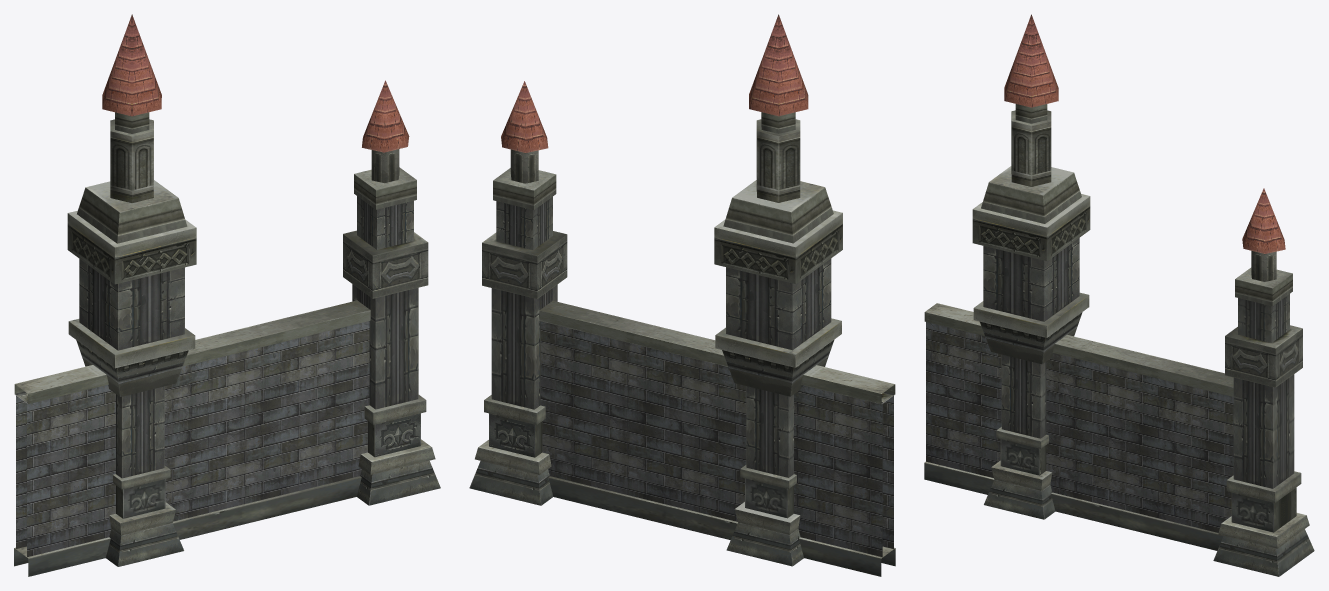
The model's file is SC_guowangchengbao_08.FBX.
3 renders of one model, left to right at view 1: azimuth 30°, elevation 25°; view 2: azimuth 150°, elevation 25°; view 3: azimuth 330°, elevation 25°, orthographic. The views are drawn at different scales.
Parts seen in each view (by area): view 1: SC_guowangchengbao_08; view 2: SC_guowangchengbao_08; view 3: SC_guowangchengbao_08.
Part boxes in pixels (x1,y1,x2,y2): SC_guowangchengbao_08: (14, 14, 440, 576); SC_guowangchengbao_08: (469, 14, 895, 576); SC_guowangchengbao_08: (924, 14, 1314, 576).
Size of the model in its own units: 1724 by 2186 by 352.
